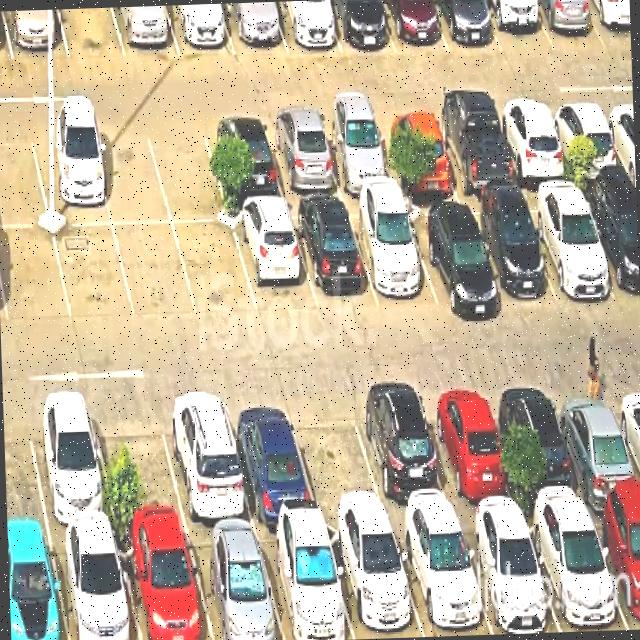empty: (287, 391, 387, 519), (91, 397, 186, 529), (145, 119, 229, 223), (91, 124, 171, 224), (113, 224, 197, 318), (53, 225, 134, 321), (173, 223, 256, 315), (0, 228, 71, 323), (3, 398, 47, 531), (0, 126, 49, 225), (58, 7, 125, 57)
occupied: (349, 386, 456, 520), (419, 383, 518, 516), (158, 390, 253, 526), (523, 509, 627, 632), (495, 381, 588, 513), (223, 394, 318, 522), (24, 397, 116, 529), (458, 516, 560, 634), (391, 518, 492, 637), (255, 523, 354, 640), (325, 523, 424, 639), (551, 380, 640, 508), (185, 528, 284, 640), (116, 529, 212, 640), (520, 189, 617, 297), (459, 197, 554, 302), (50, 530, 140, 640), (403, 200, 497, 305), (345, 202, 438, 305), (230, 204, 317, 314), (288, 202, 378, 308), (28, 125, 111, 225), (431, 108, 517, 192), (202, 117, 285, 203), (579, 188, 640, 301), (262, 115, 343, 198), (7, 532, 68, 640), (315, 114, 397, 194), (374, 111, 457, 190), (588, 505, 640, 629), (493, 103, 572, 184), (547, 101, 624, 180), (481, 0, 554, 54), (324, 0, 395, 53), (165, 3, 235, 56), (271, 0, 341, 53), (532, 0, 606, 50), (380, 0, 448, 54), (432, 0, 502, 52), (112, 5, 179, 57), (221, 2, 287, 54), (2, 9, 69, 59), (585, 0, 631, 48), (0, 11, 12, 59)
